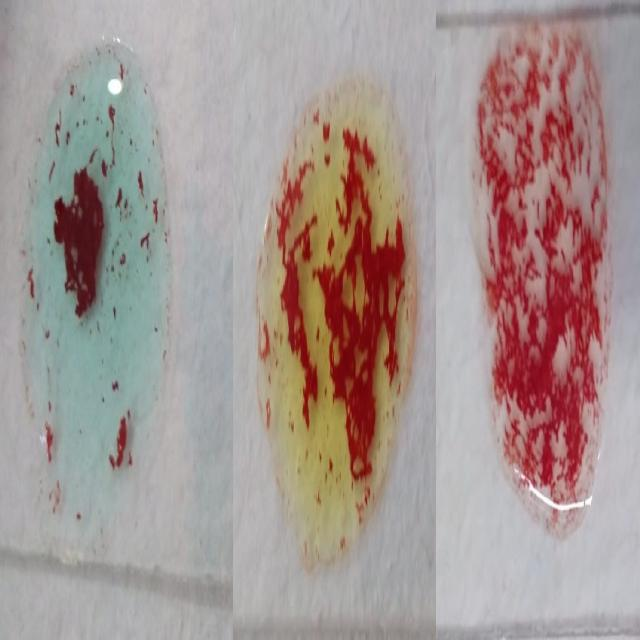A: (27, 32, 162, 541)
B: (256, 105, 418, 565)
D: (475, 15, 626, 534)
